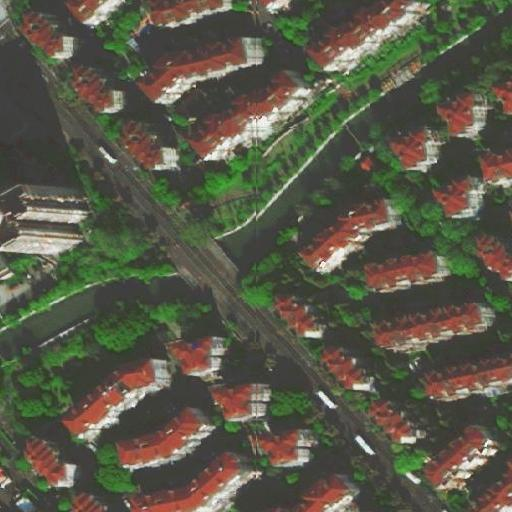building: (185, 64, 313, 160), (66, 358, 172, 443), (142, 33, 262, 102), (301, 195, 397, 273), (138, 449, 256, 512), (312, 1, 418, 67), (379, 298, 493, 351), (123, 407, 213, 473), (420, 425, 502, 493), (1, 192, 93, 251), (427, 351, 512, 402), (370, 248, 450, 292), (121, 114, 179, 173), (62, 56, 121, 110), (290, 470, 359, 511), (21, 8, 76, 58), (25, 433, 75, 486), (367, 392, 419, 442), (214, 381, 273, 424), (384, 122, 437, 169), (278, 290, 329, 337), (324, 344, 371, 390), (438, 89, 486, 134), (174, 335, 224, 377), (259, 427, 313, 465), (439, 173, 485, 216), (474, 469, 512, 512), (478, 233, 512, 280), (488, 146, 512, 186), (488, 76, 512, 111), (78, 489, 111, 510)
